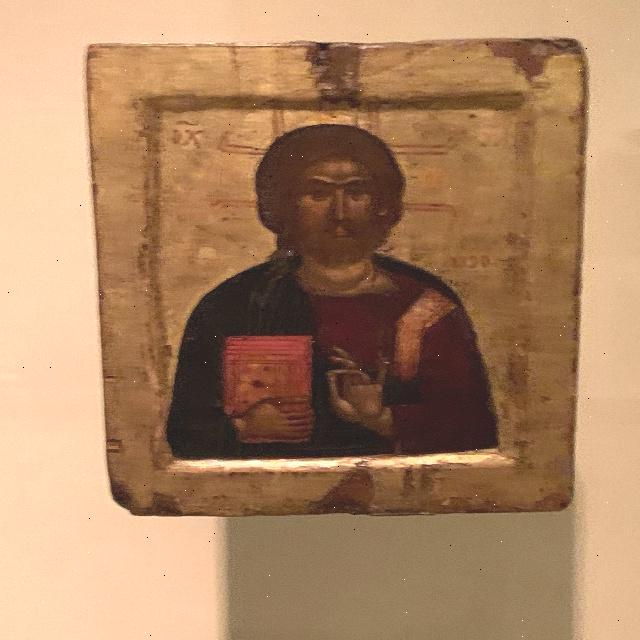aura: (206, 87, 462, 277)
book: (221, 334, 319, 441)
christ_pantocrator: (200, 84, 457, 457)
hand: (323, 346, 396, 430)
